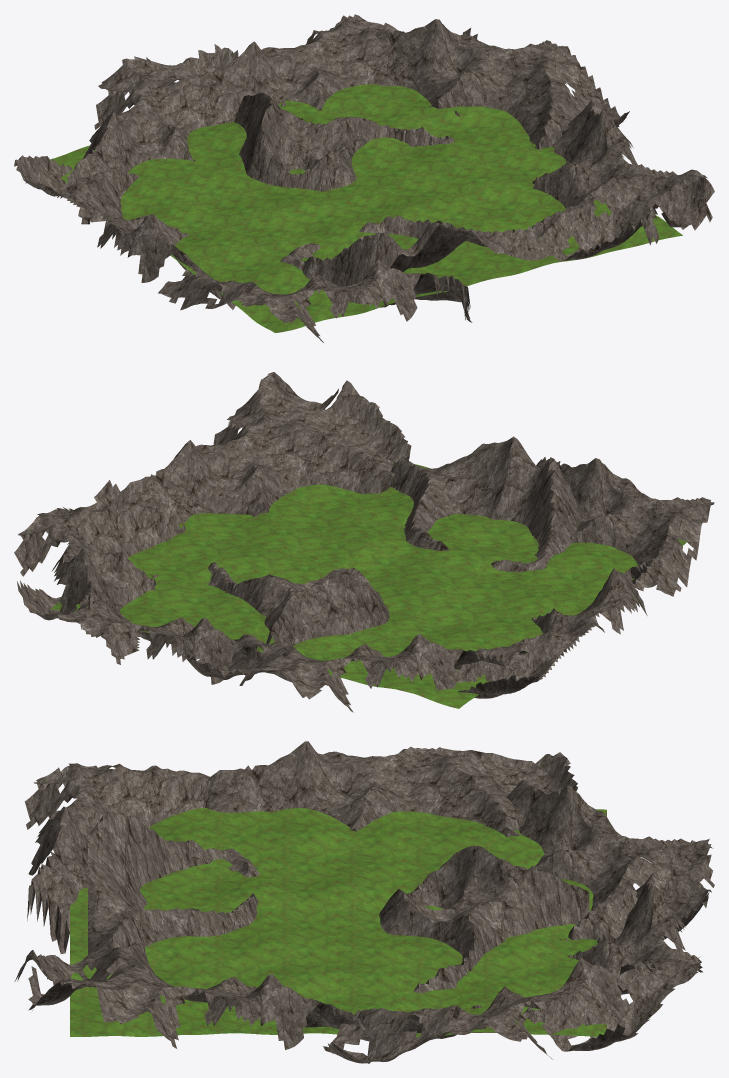
The model's file is terrain.fbx.
3 views of the same model, one above another, from view 1: azimuth 30°, elevation 25°; view 2: azimuth 150°, elevation 25°; view 3: azimuth 270°, elevation 25° (orthographic). The views are drawn at different scales.
Parts seen in each view (by area): view 1: Ebene_1; view 2: Ebene_1; view 3: Ebene_1.
Boxes of the visible parts, x1,y1,x2,y2 form: Ebene_1: [14, 14, 714, 342]; Ebene_1: [14, 372, 714, 712]; Ebene_1: [14, 741, 714, 1063].
Bounding box in the file's own units: 835 × 144 × 839.
2 materials, 2 textured.
